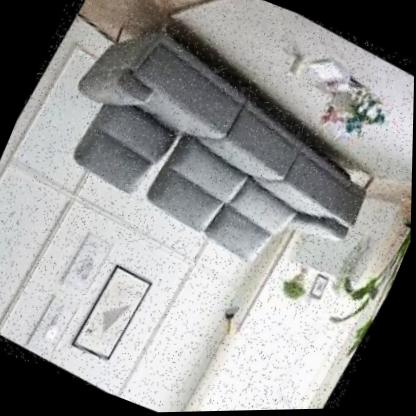Sofa: (1, 0, 416, 330)
